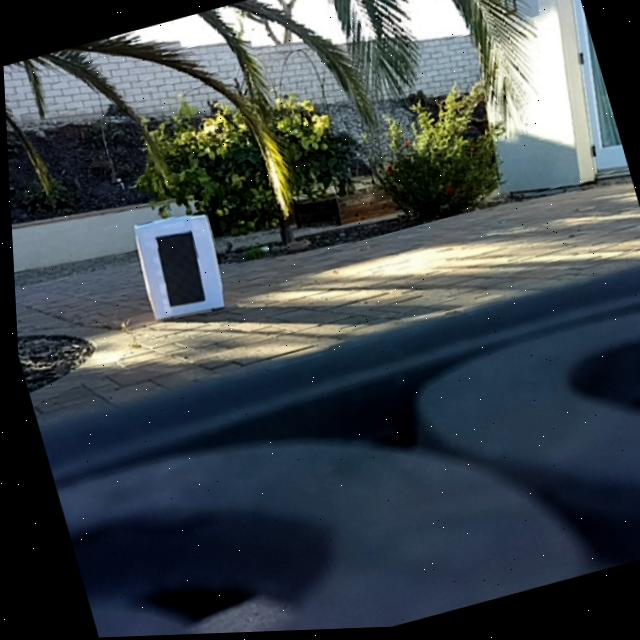led: (148, 228, 207, 309)
